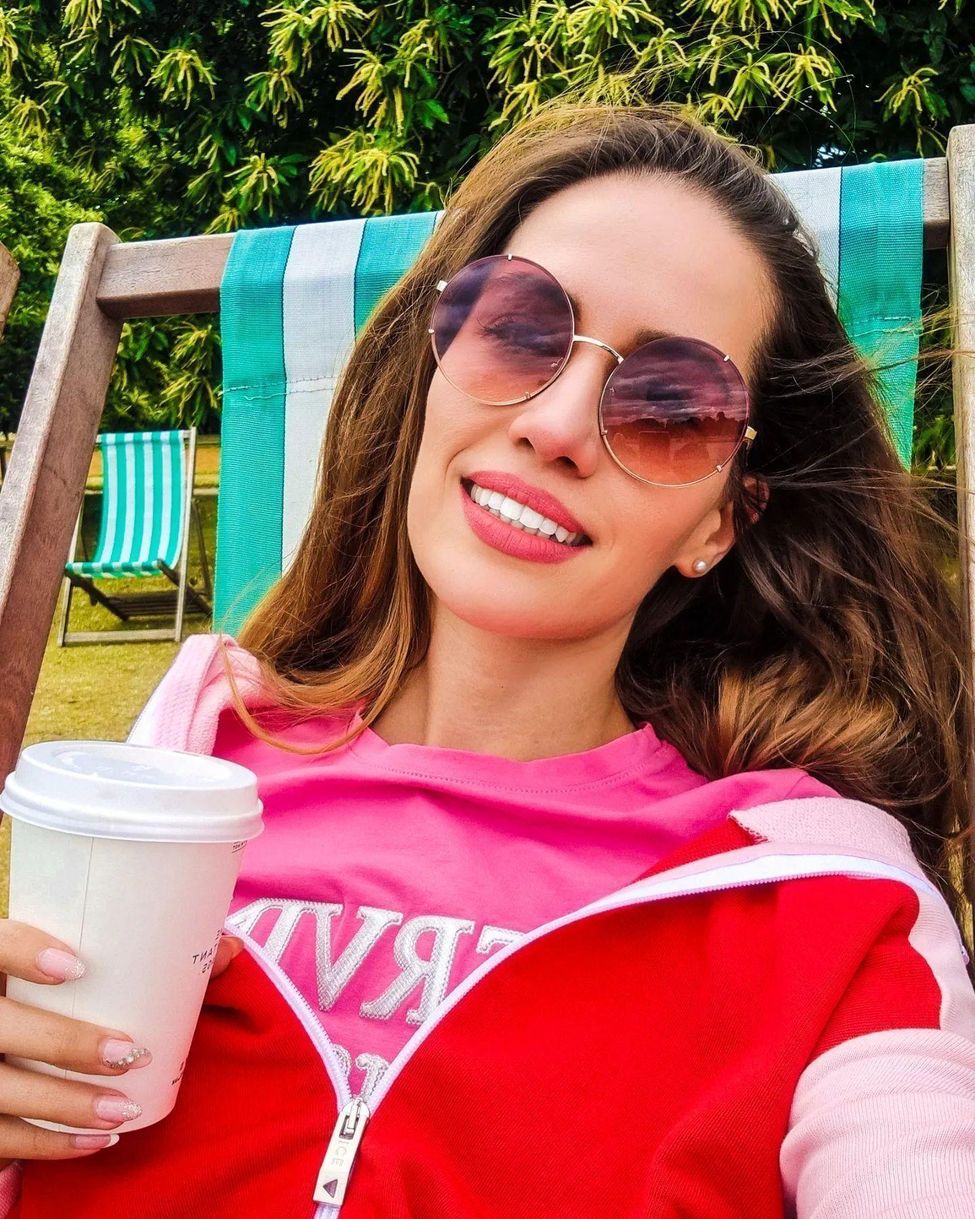cup-disposable: (0, 734, 269, 1163)
